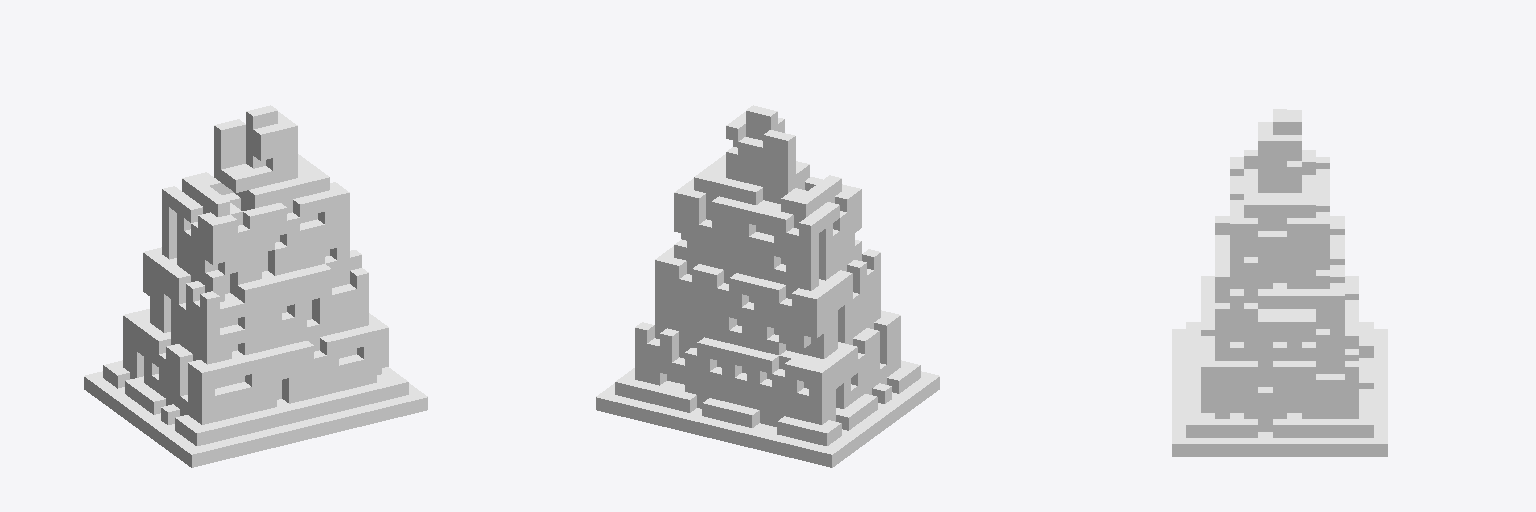
Rendered from lodowiec_pojedynczy.obj.
3 renders of one model, left to right at view 1: azimuth 30°, elevation 25°; view 2: azimuth 150°, elevation 25°; view 3: azimuth 270°, elevation 25°, orthographic.
Visible parts, largest first — view 1: object 1; view 2: object 1; view 3: object 1.
Part boxes in pixels (left/top/right/bottom): object 1: left=84, top=105, right=427, bottom=467; object 1: left=596, top=105, right=939, bottom=467; object 1: left=1172, top=109, right=1387, bottom=456.
Size of the model in its own units: 1.9 by 2.2 by 1.5.